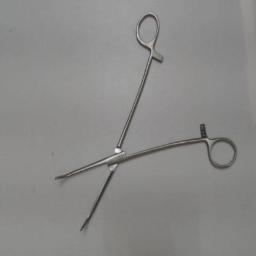Lahey Forceps: (50, 10, 240, 236)
